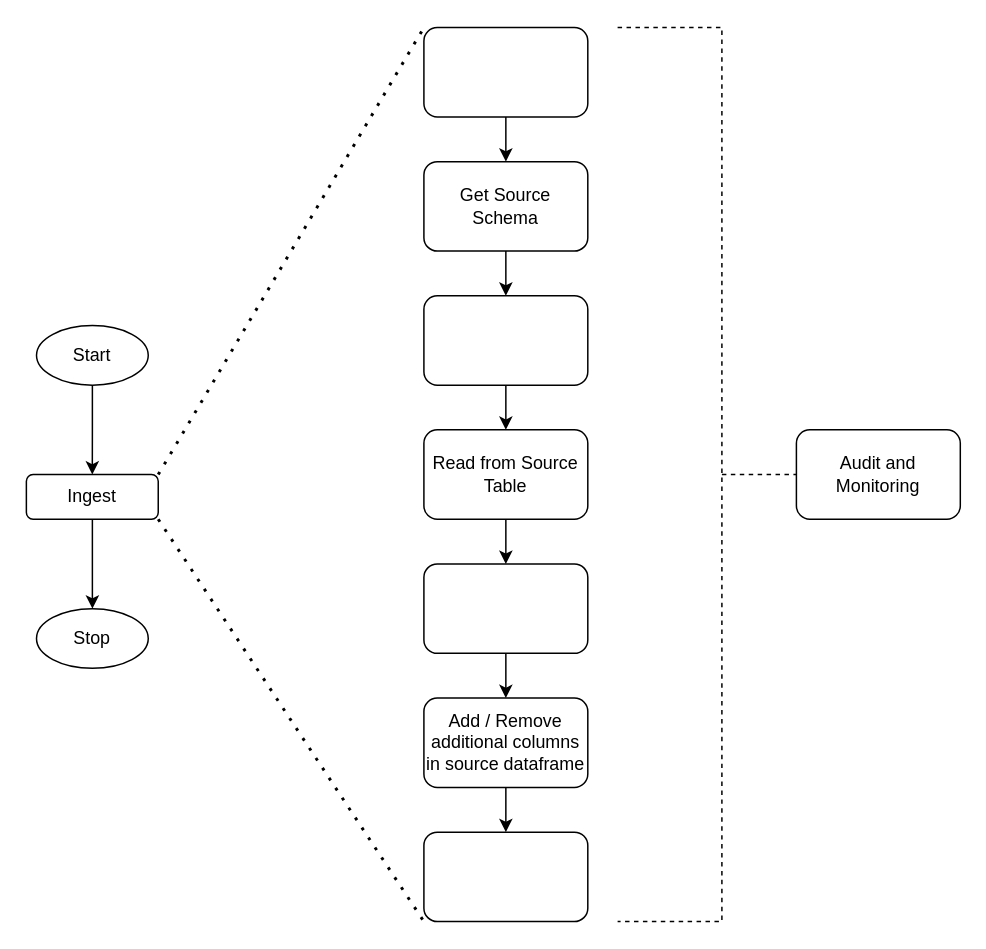
Some shapes in this 986 by 949 pixel diagram are drawn without their labels. The shapes that lost their labels are listed below. From the top down, each one's box as (x1, y1, x2, y2) in pixels, then its label:
(422, 26, 588, 117): Get Destination Schema
(422, 294, 588, 385): Generate Source Query
(422, 562, 588, 653): Generate Source Dataframe
(422, 831, 588, 922): Write back to destination table
